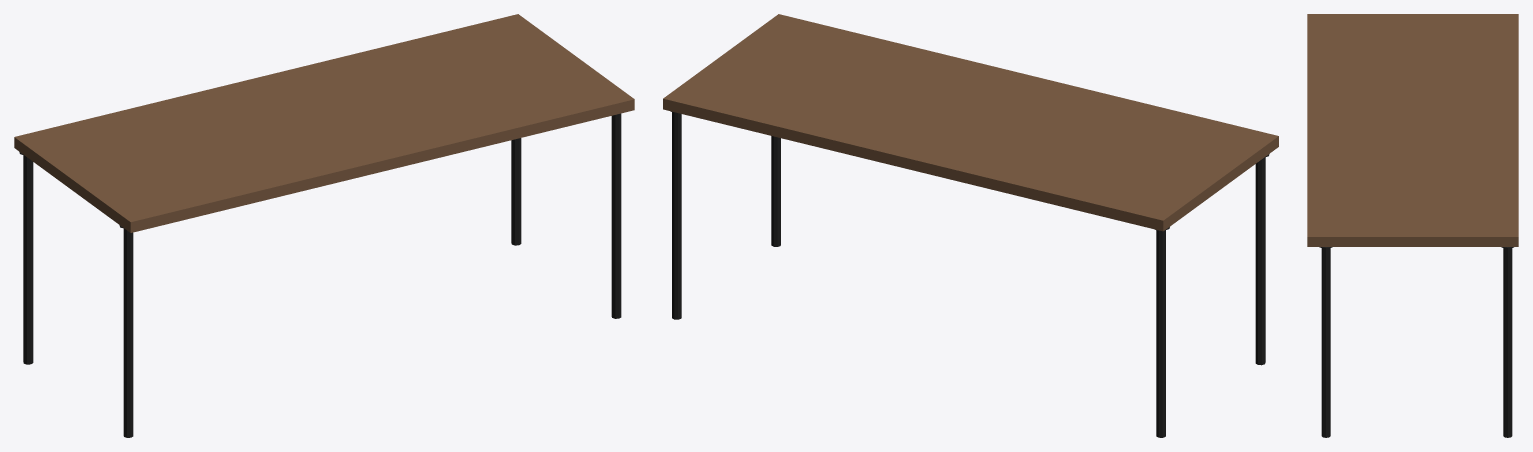
File: desk2.glb
The picture shows the model from 3 angles, left to right: view 1: azimuth 30°, elevation 25°; view 2: azimuth 150°, elevation 25°; view 3: azimuth 270°, elevation 25°; orthographic projection. The views are drawn at different scales.
Visible parts, largest first — view 1: Cube; view 2: Cube; view 3: Cube.
Boxes of the visible parts, box(x1,y1,x2,y2) form: Cube: box(14, 14, 634, 437); Cube: box(663, 14, 1278, 437); Cube: box(1307, 14, 1518, 437).
Bounding box in the file's own units: 2.01 × 0.8479 × 0.8024.
Materials: 1 (1 with a texture image).
